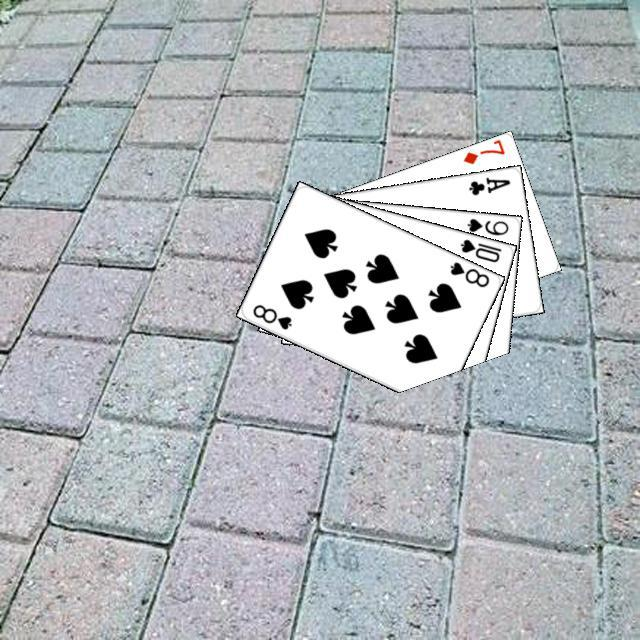10s: (455, 234, 503, 264)
7d: (458, 136, 507, 166)
8s: (445, 257, 491, 289), (247, 299, 293, 331)
9s: (462, 214, 510, 237)
Ac: (464, 172, 512, 197)
